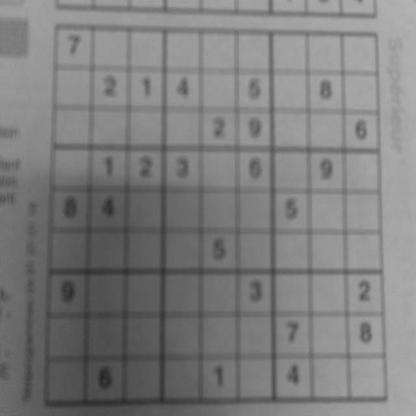sudoku: (41, 19, 393, 412)
